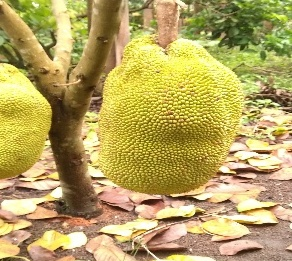Mit: (96, 36, 243, 197)
